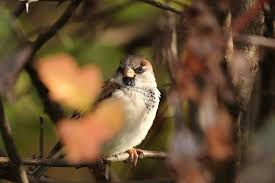hsparrow: (45, 51, 160, 169)
